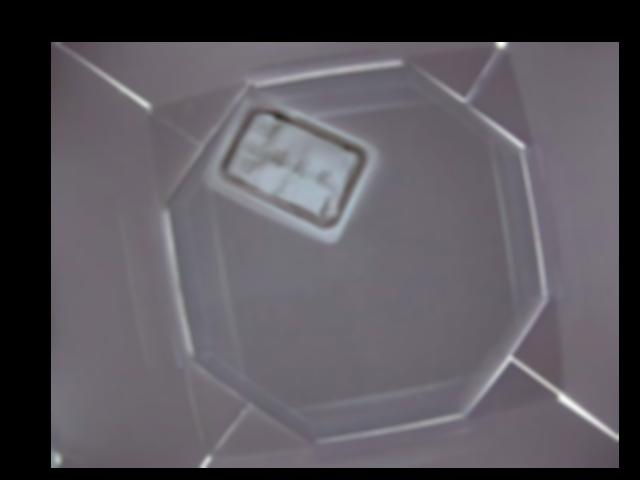Medicine: (208, 90, 376, 243)
